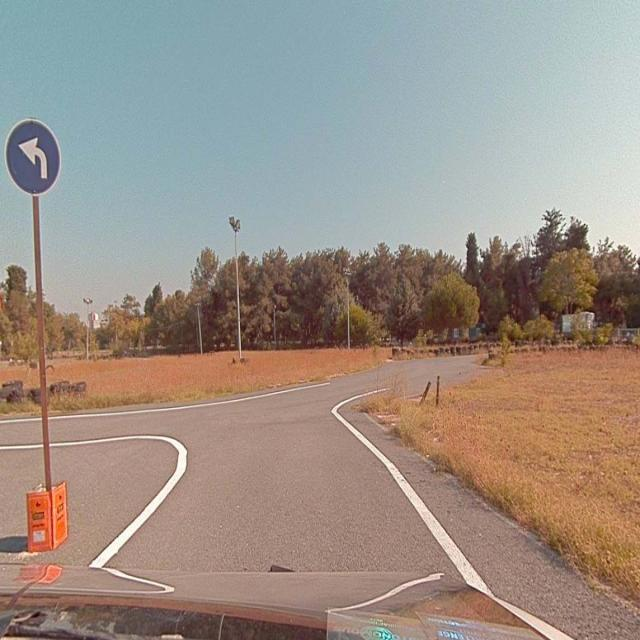sol: (5, 122, 60, 198)
